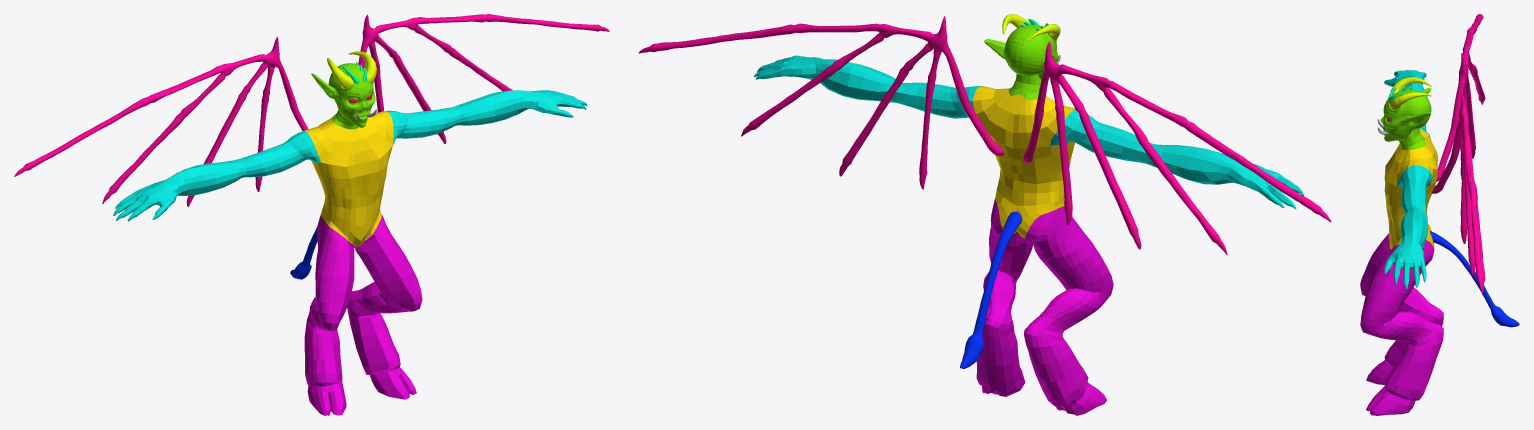
Rendered from SM_Imp.fbx.
3 renders of one model, left to right at view 1: azimuth 30°, elevation 25°; view 2: azimuth 150°, elevation 25°; view 3: azimuth 270°, elevation 25°, orthographic. The views are drawn at different scales.
Visible parts, largest first — view 1: Eyes_Low; view 2: Eyes_Low; view 3: Eyes_Low.
Part boxes in pixels (x1,y1,x2,y2): Eyes_Low: [14, 14, 609, 415]; Eyes_Low: [638, 14, 1331, 415]; Eyes_Low: [1360, 14, 1519, 415].
Bounding box in the file's own units: 19.48 × 10.75 × 4.84.
